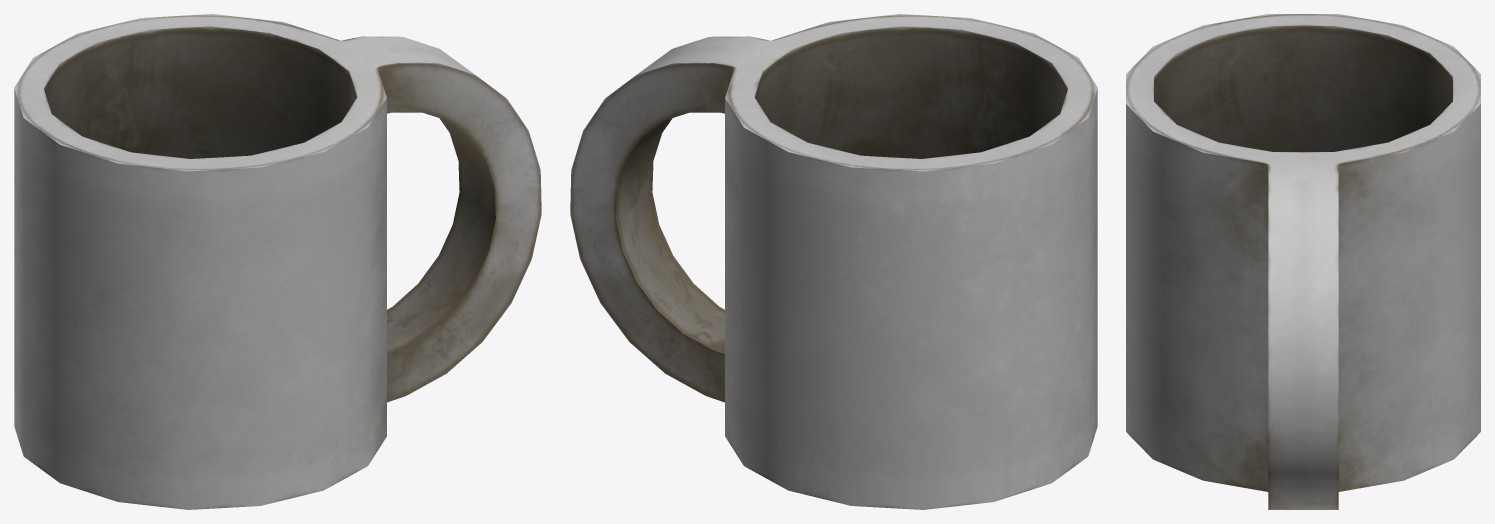
Rendered from Coffee Cup.fbx.
3 renders of one model, left to right at view 1: azimuth 30°, elevation 25°; view 2: azimuth 150°, elevation 25°; view 3: azimuth 270°, elevation 25°, orthographic. The views are drawn at different scales.
Visible parts, largest first — view 1: CoffeeCup; view 2: CoffeeCup; view 3: CoffeeCup.
Boxes of the visible parts, <box> form: CoffeeCup: <box>14,14,541,509</box>; CoffeeCup: <box>570,14,1097,509</box>; CoffeeCup: <box>1126,14,1480,509</box>.
Bounding box in the file's own units: 9.3 × 9.49 × 14.13.
